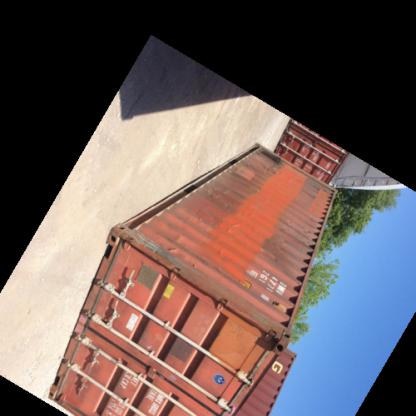Damage: (132, 224, 194, 258), (252, 146, 288, 172), (296, 184, 332, 208), (268, 235, 292, 264), (301, 213, 321, 247), (202, 181, 233, 201), (220, 218, 246, 240), (250, 183, 271, 202), (211, 247, 227, 259)
